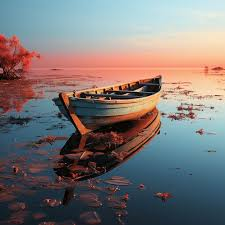boat: (58, 74, 162, 137)
